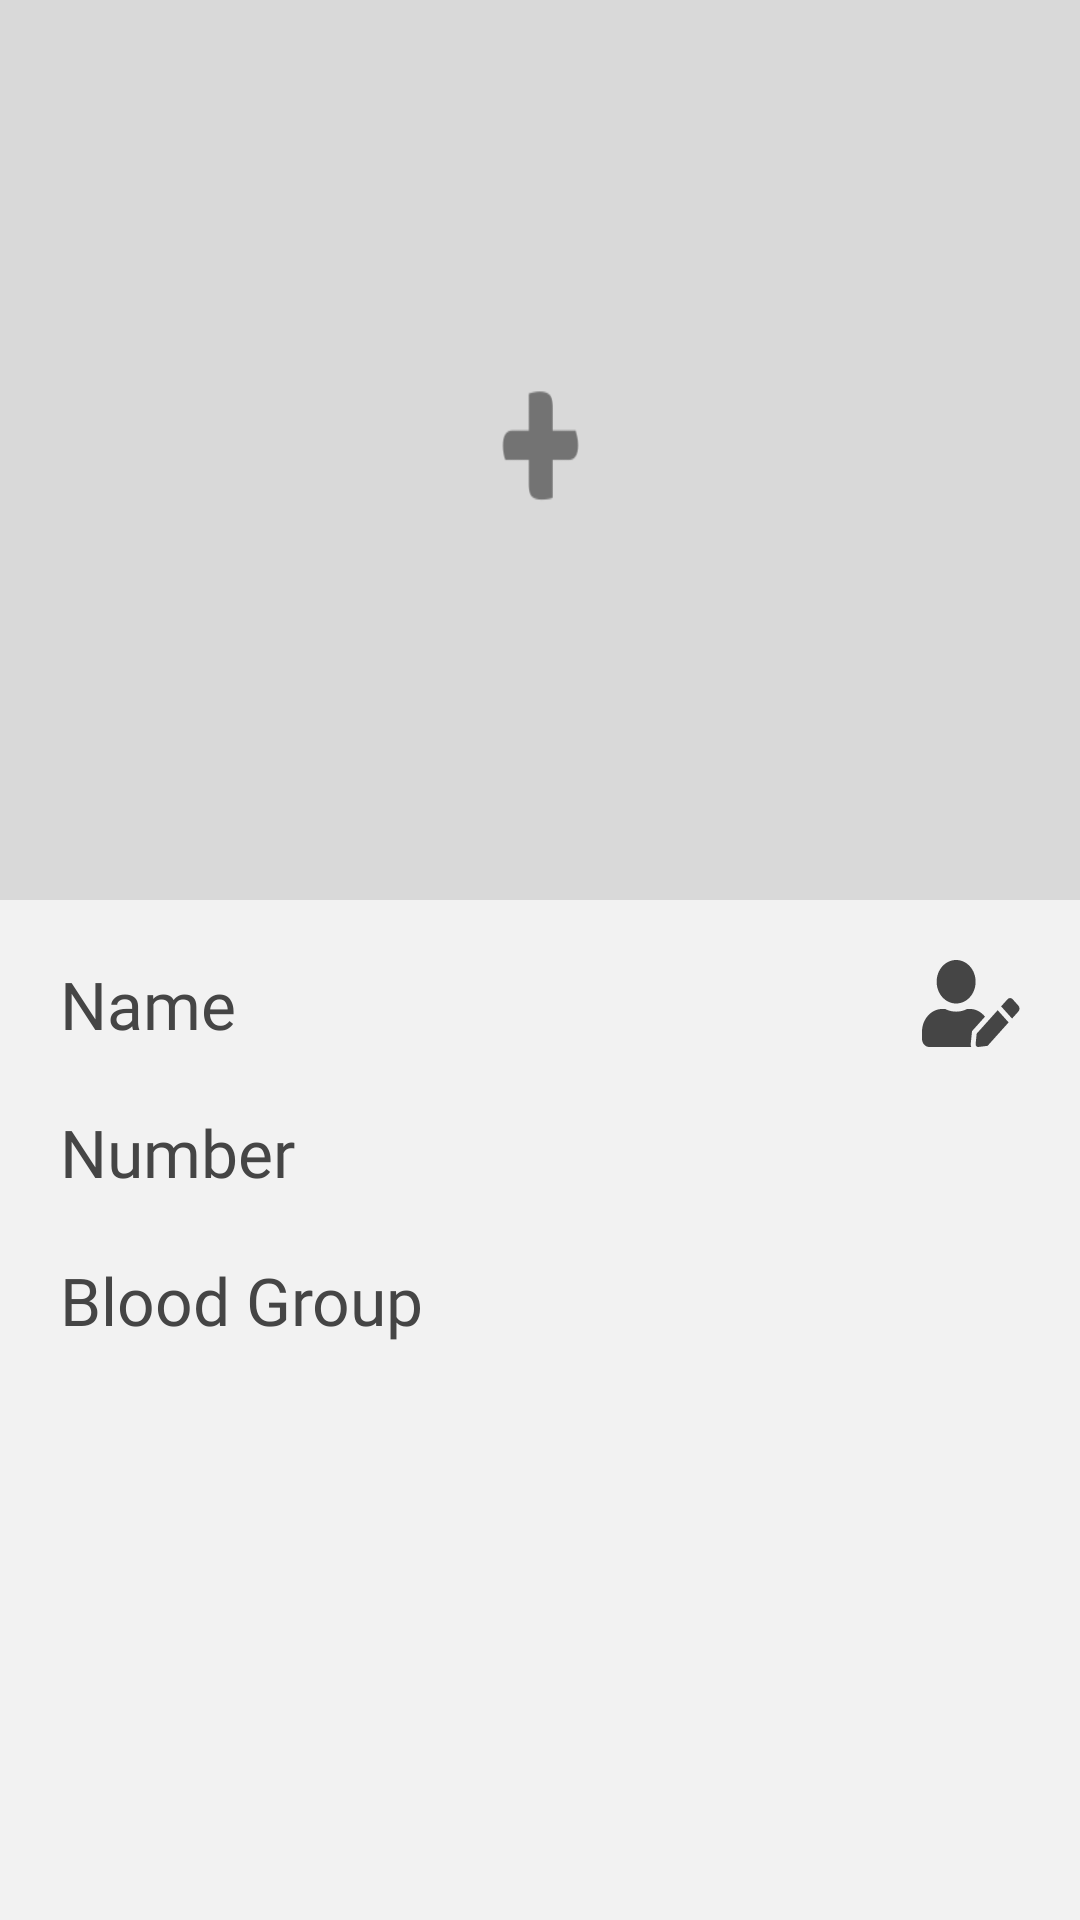

Locate icon controls on the screen. Image size 1080px×1920px, boxes as detection(x1, y1, x2, y2).
user edit: detection(922, 960, 1020, 1047)
